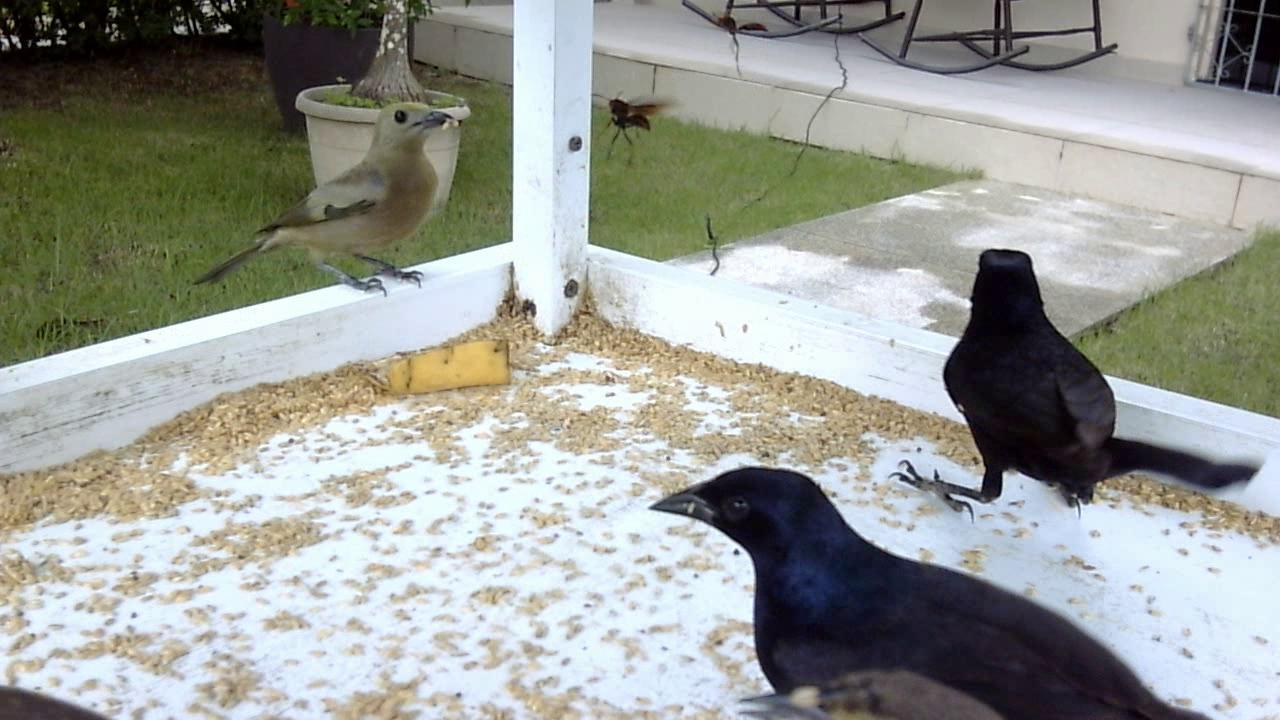chupim: (641, 461, 1212, 720), (862, 236, 1259, 532)
sanhaco_do_coqueiro: (187, 97, 468, 305)
